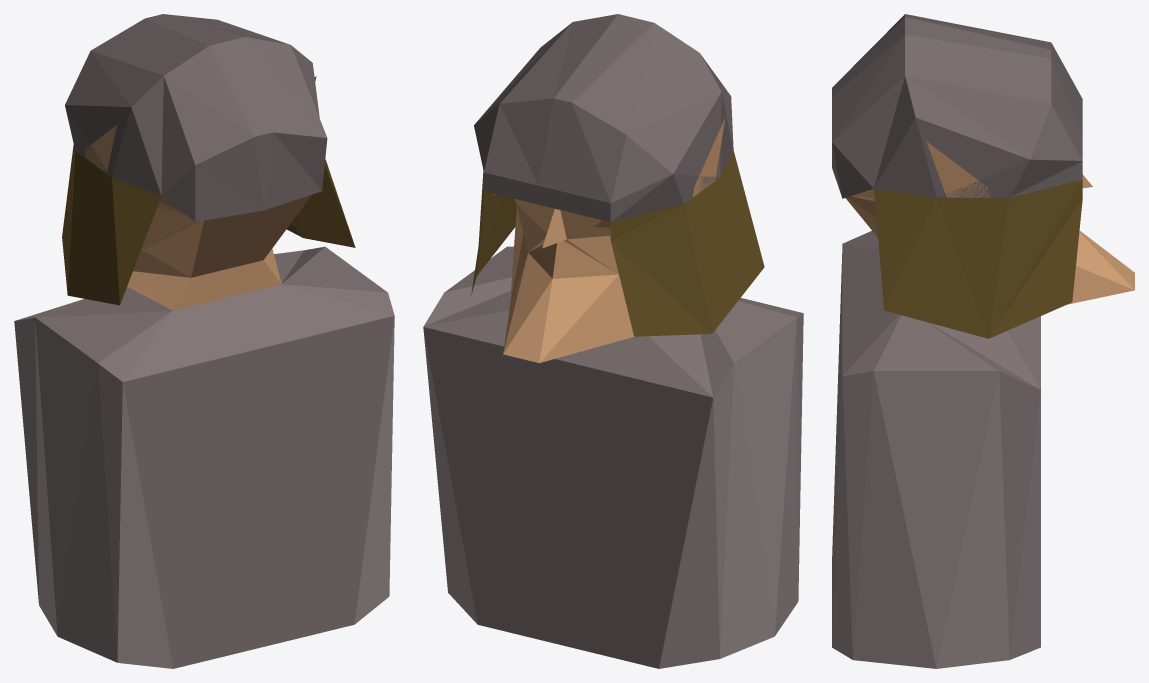
File: npc_world_gnome_winger_2_1.obj
3 views of the same model, side by side, from view 1: azimuth 30°, elevation 25°; view 2: azimuth 150°, elevation 25°; view 3: azimuth 270°, elevation 25° (orthographic).
Size of the model in its own units: 0.2656 by 0.4766 by 0.2266.
